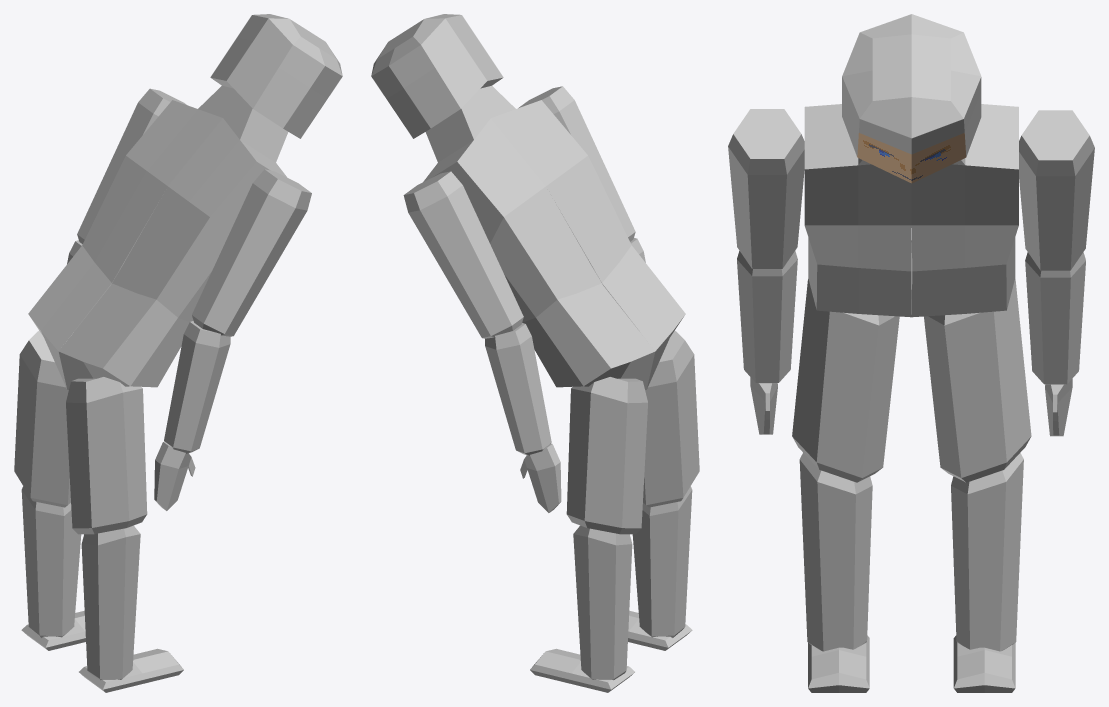
Rendered from characterCRY.fbx.
3 views of the same model, side by side, from view 1: azimuth 30°, elevation 25°; view 2: azimuth 150°, elevation 25°; view 3: azimuth 270°, elevation 25° (orthographic). The views are drawn at different scales.
Parts seen in each view (by area): view 1: Cube; view 2: Cube; view 3: Cube.
Boxes of the visible parts, bbox=[...] form: Cube: bbox=[14, 14, 342, 692]; Cube: bbox=[371, 14, 699, 692]; Cube: bbox=[728, 14, 1094, 692].
Bounding box in the file's own units: 396 × 781 × 342.
